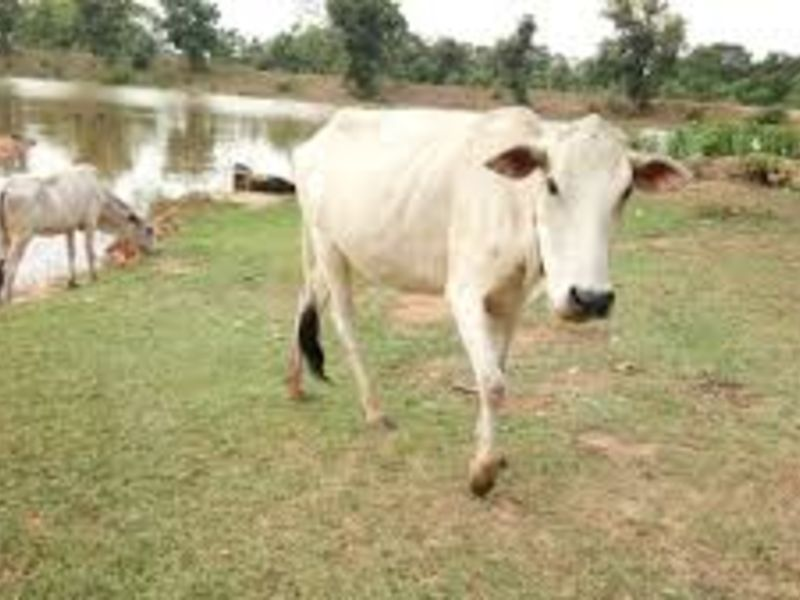cow: (278, 91, 694, 493)
